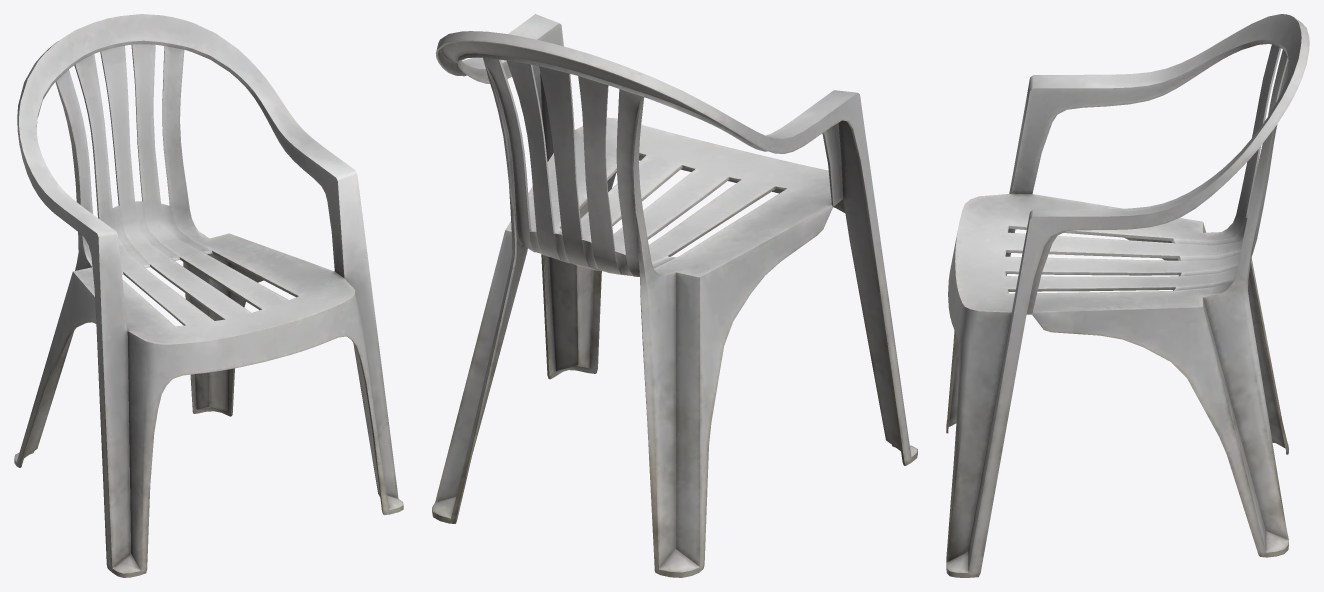
The model's file is plastic_monobloc_chair_01.glb.
The picture shows the model from 3 angles, left to right: view 1: azimuth 30°, elevation 25°; view 2: azimuth 150°, elevation 25°; view 3: azimuth 270°, elevation 25°; orthographic projection. The views are drawn at different scales.
Visible parts, largest first — view 1: plastic_monobloc_chair_01; view 2: plastic_monobloc_chair_01; view 3: plastic_monobloc_chair_01.
Boxes of the visible parts, x1=… form: plastic_monobloc_chair_01: x1=14, y1=14, x2=403, y2=577; plastic_monobloc_chair_01: x1=432, y1=14, x2=917, y2=577; plastic_monobloc_chair_01: x1=946, y1=14, x2=1309, y2=577.
Bounding box in the file's own units: 0.6418 × 0.8798 × 0.6276.
Materials: 1 (1 with a texture image).
